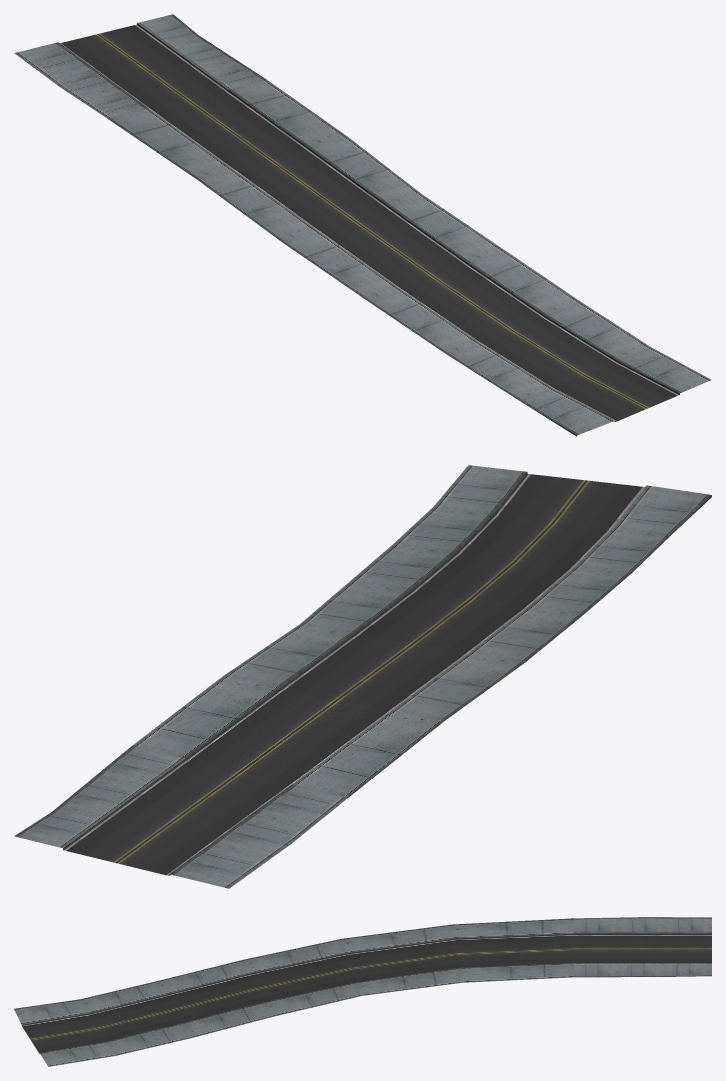
The model's file is laeroad11.obj.
3 views of the same model, one above another, from view 1: azimuth 30°, elevation 25°; view 2: azimuth 150°, elevation 25°; view 3: azimuth 270°, elevation 25° (orthographic). The views are drawn at different scales.
Visible parts, largest first — view 1: laeroad11; view 2: laeroad11; view 3: laeroad11.
Part boxes in pixels (x1=…): laeroad11: x1=14, y1=14, x2=711, y2=436; laeroad11: x1=14, y1=465, x2=711, y2=888; laeroad11: x1=14, y1=917, x2=711, y2=1066.
Size of the model in its own units: 33.16 by 8.73 by 101.
